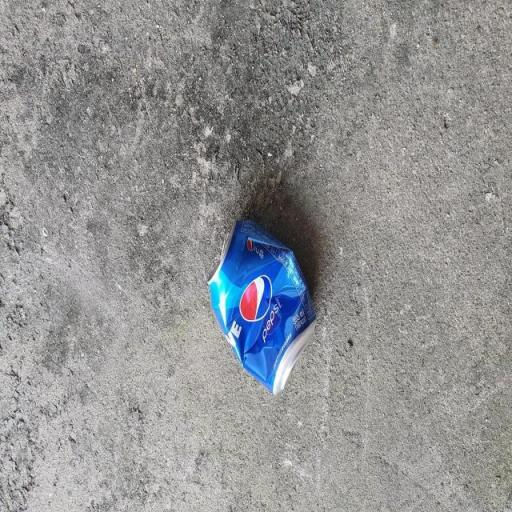metal: (182, 184, 351, 442)
